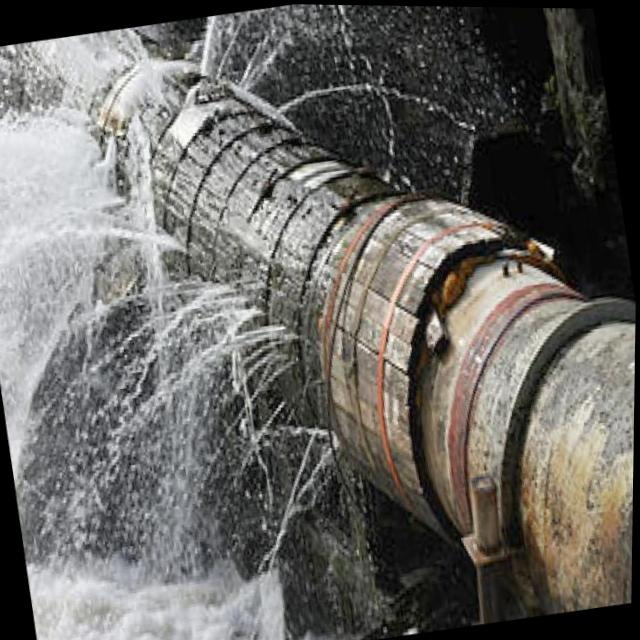leak: (0, 4, 636, 640)
